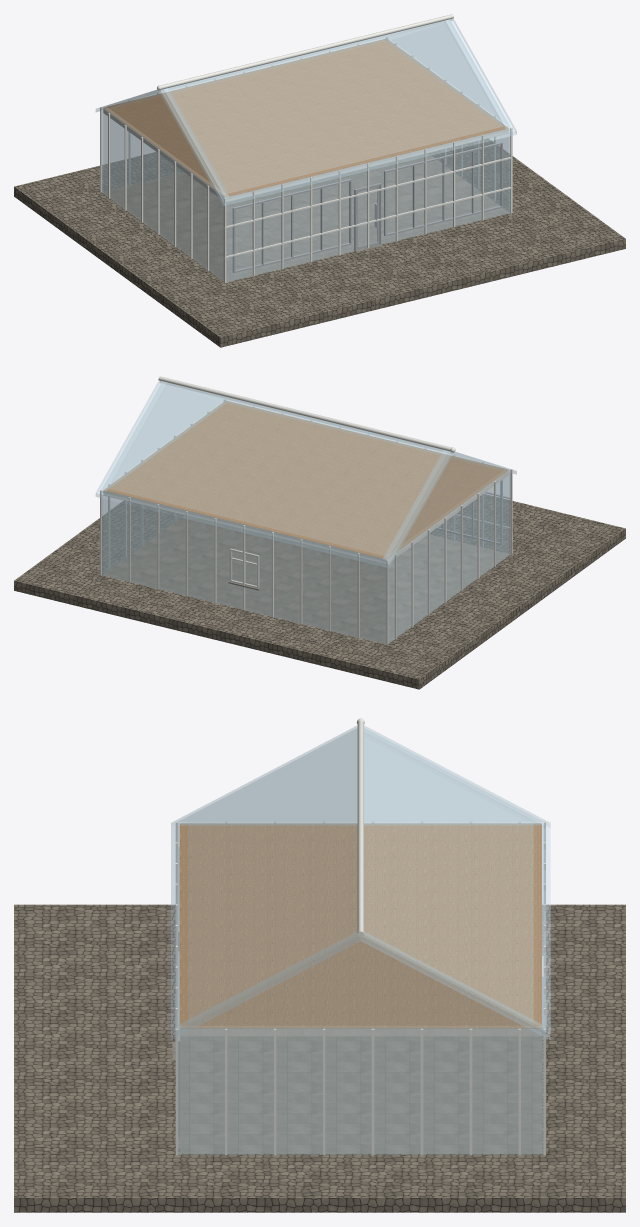
Rendered from b_greenhouse_cafe.gltf.
The picture shows the model from 3 angles, top to bottom: view 1: azimuth 30°, elevation 25°; view 2: azimuth 150°, elevation 25°; view 3: azimuth 270°, elevation 25°; orthographic projection. The views are drawn at different scales.
Visible parts, largest first — view 1: S_greenhouse_cafe, D_greenhouse_cafe_F1_S2_Door0; view 2: S_greenhouse_cafe; view 3: S_greenhouse_cafe.
Part boxes in pixels (x1,y1,x2,y2): S_greenhouse_cafe: (14, 14, 625, 347); D_greenhouse_cafe_F1_S2_Door0: (356, 185, 379, 250); S_greenhouse_cafe: (14, 376, 625, 689); S_greenhouse_cafe: (14, 718, 625, 1212).
Size of the model in its own units: 17 by 6.52 by 15.
Materials: 11 (6 with a texture image).
